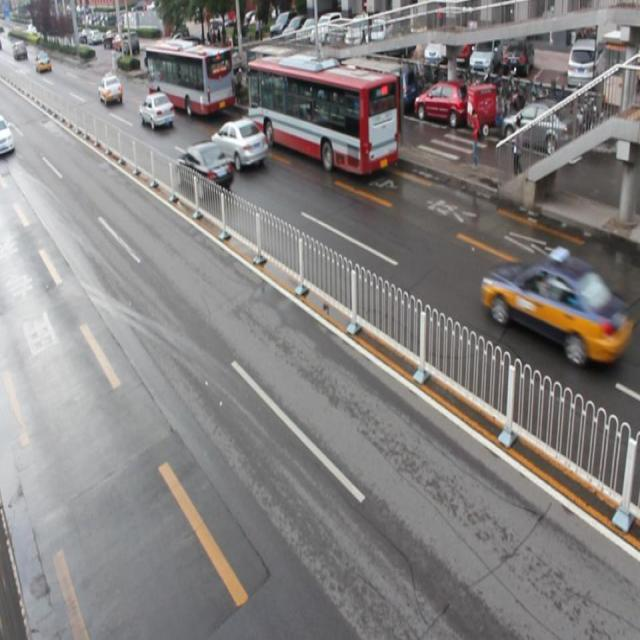car: (481, 256, 624, 364), (176, 140, 233, 200), (211, 116, 267, 172), (140, 92, 175, 131)
van: (248, 55, 397, 174), (146, 41, 235, 115)
